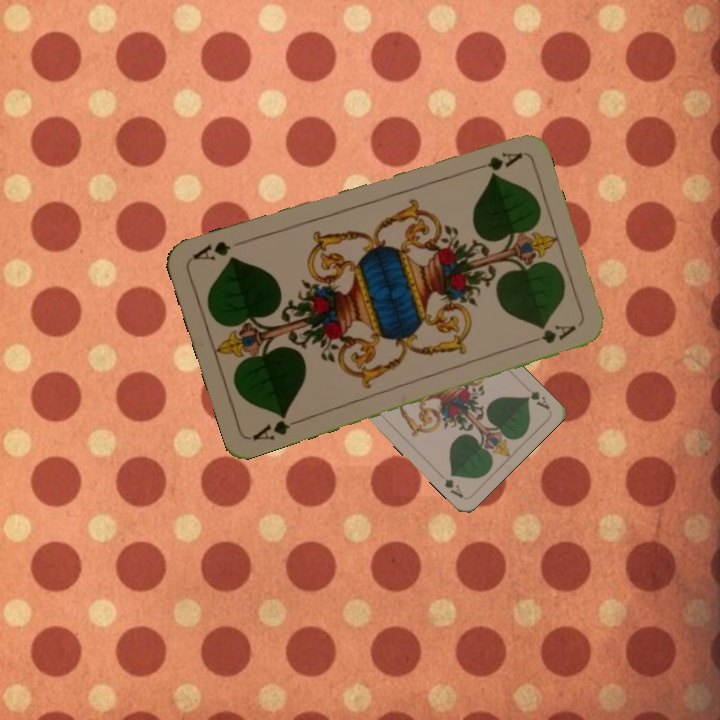GA: (248, 409, 305, 443), (466, 147, 524, 174), (521, 387, 552, 412)
